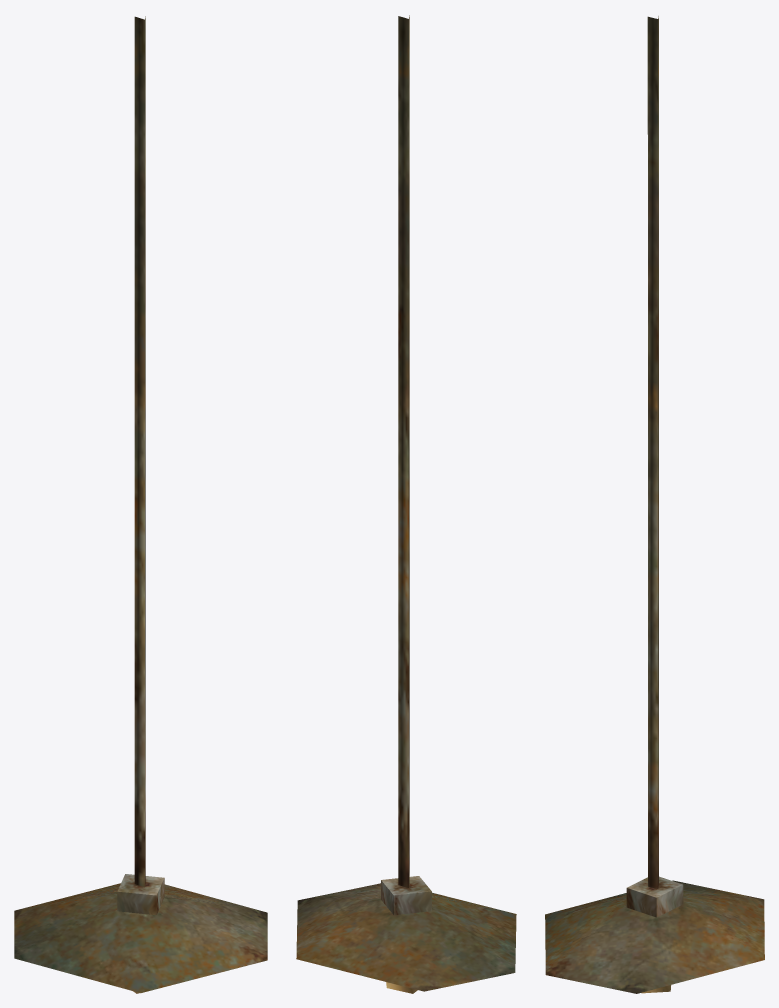
The model's file is Prop_Wj040.glb.
3 views of the same model, side by side, from view 1: azimuth 30°, elevation 25°; view 2: azimuth 150°, elevation 25°; view 3: azimuth 270°, elevation 25° (orthographic).
Parts seen in each view (by area): view 1: xiutz_wj040; view 2: xiutz_wj040; view 3: xiutz_wj040.
Part boxes in pixels (x1,y1,x2,y2): xiutz_wj040: (14,16,267,993); xiutz_wj040: (296,15,516,993); xiutz_wj040: (545,16,764,993).
Size of the model in its own units: 0.8398 by 3.3 by 0.6772.
Materials: 1 (1 with a texture image).
